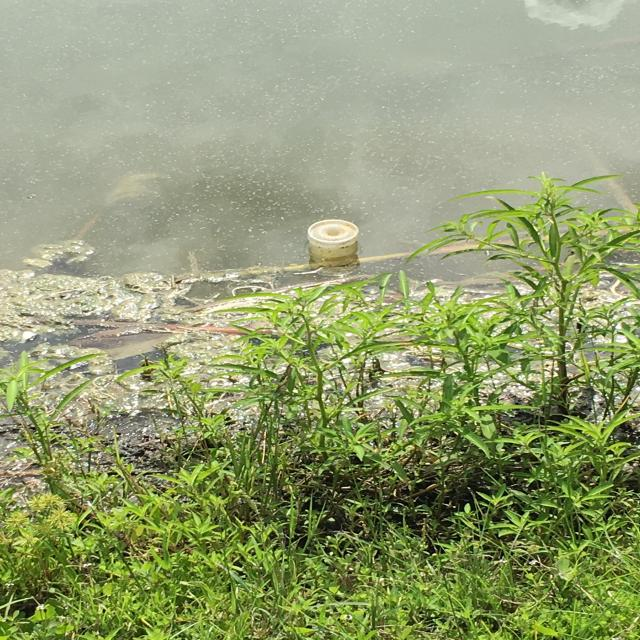litter: (287, 211, 367, 271)
